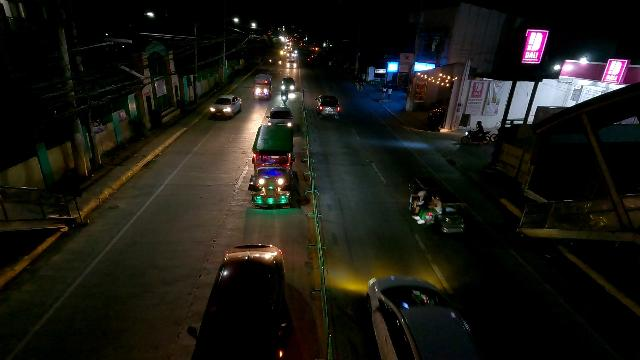car: (209, 94, 242, 118), (313, 93, 342, 120), (267, 105, 296, 126), (280, 75, 296, 92), (287, 57, 297, 68)
jeepney: (248, 124, 296, 210), (252, 73, 272, 101)
motorcycle: (280, 88, 290, 106)
